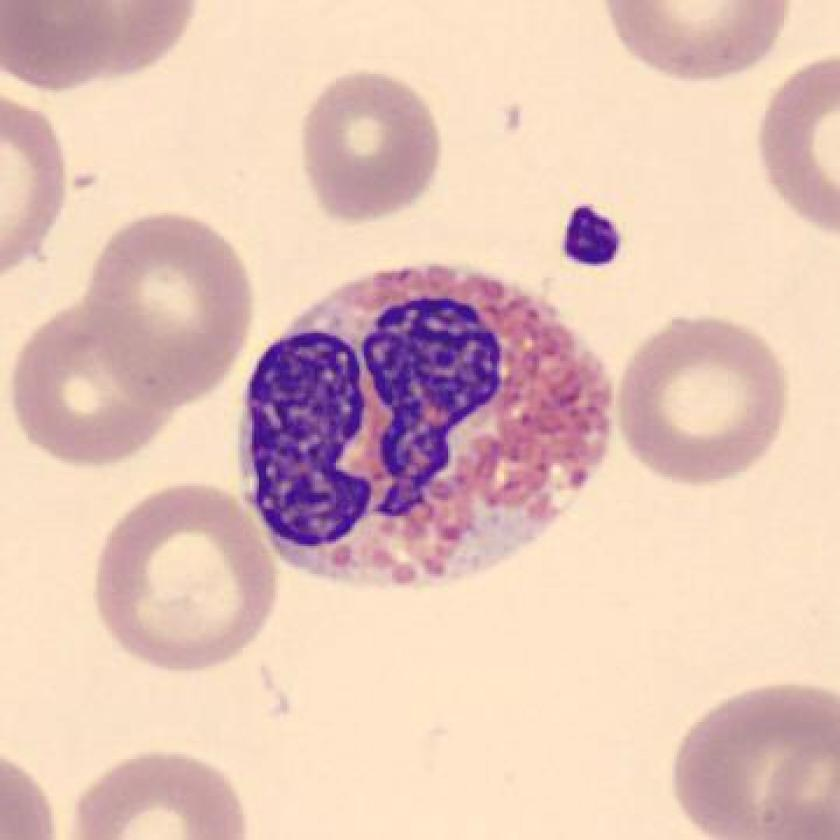eosinophil: (230, 253, 633, 605)
